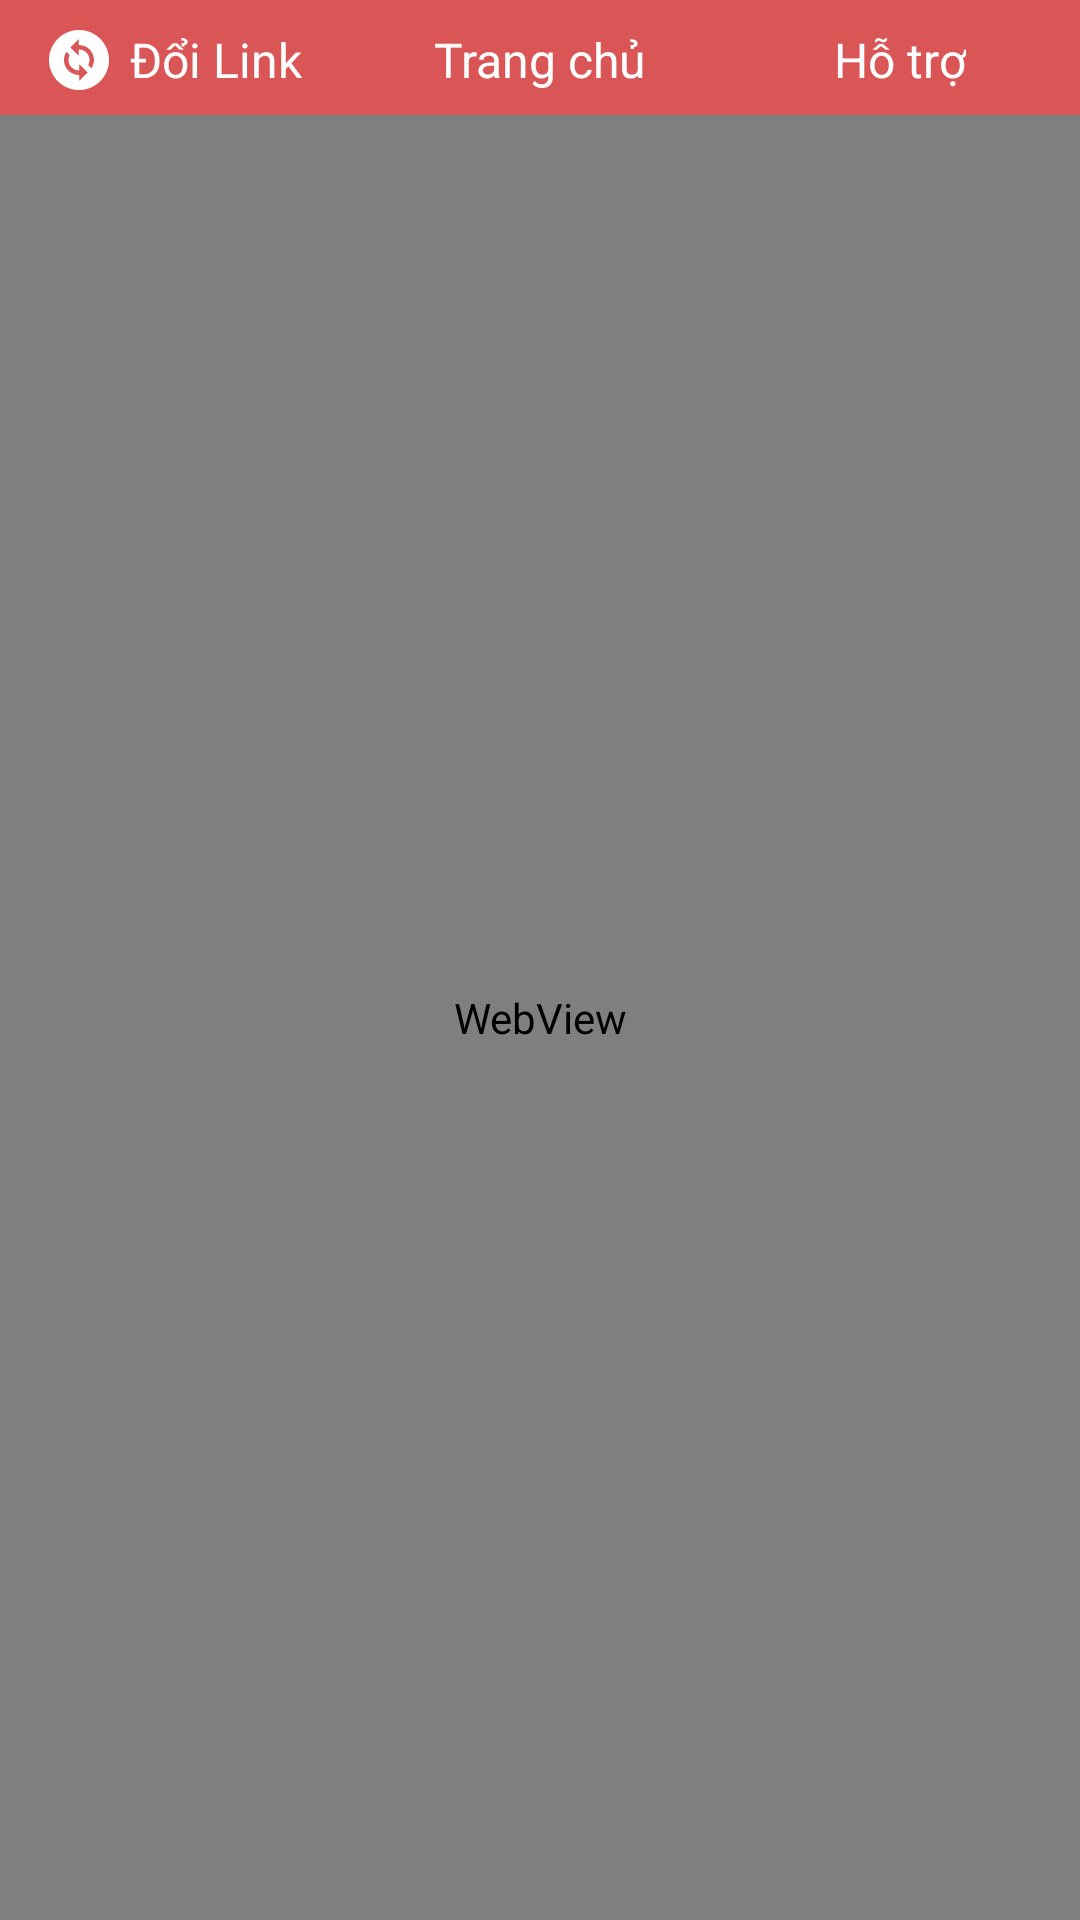

Locate icon controls on the screen. Image size 1080 × 1920, boxes as bbox=[x1, y1, x2, y2].
change: bbox=[49, 30, 109, 90]
